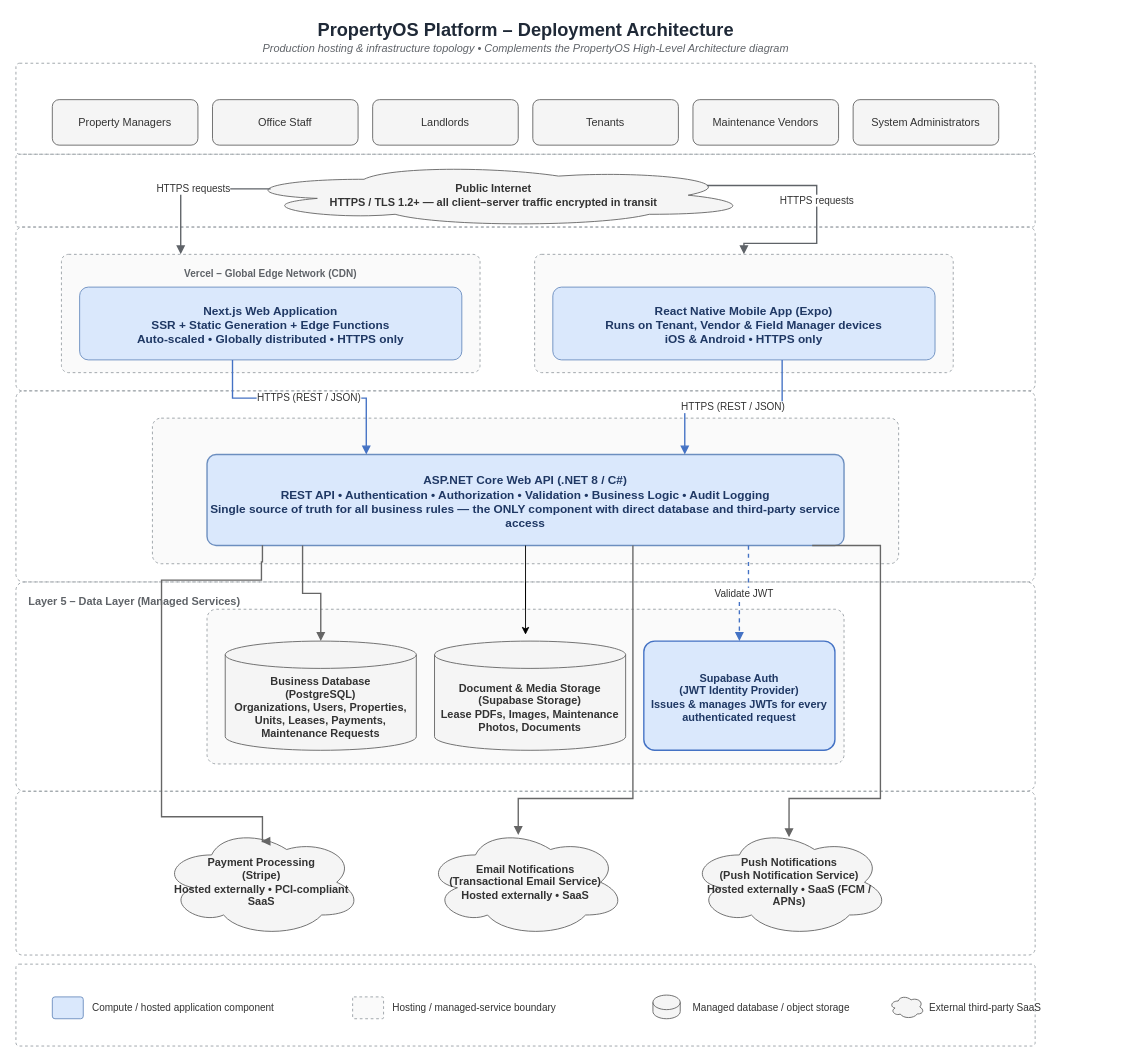
This 1144x1062 diagram has some shape labels left out. Here are the shapes that lost their labels. From the top down, the box of each, then its label:
(15, 62, 1035, 154): Layer 1 – Users
(15, 153, 1035, 227): Layer 2 – Internet
(15, 226, 1035, 391): Layer 3 – Frontend Hosting
(534, 253, 953, 373): App Store / Google Play – Distribution
(15, 390, 1035, 582): Layer 4 – Backend Hosting (Microsoft Azure)
(152, 417, 899, 564): Azure App Service Plan – Linux • Region: East US 2 • Auto-scale 2–10 instances
(206, 608, 844, 764): Supabase Cloud Platform – Managed Backend-as-a-Service
(15, 790, 1035, 955): Layer 6 – External Services (Third-Party SaaS)
(15, 963, 1035, 1046): Legend
